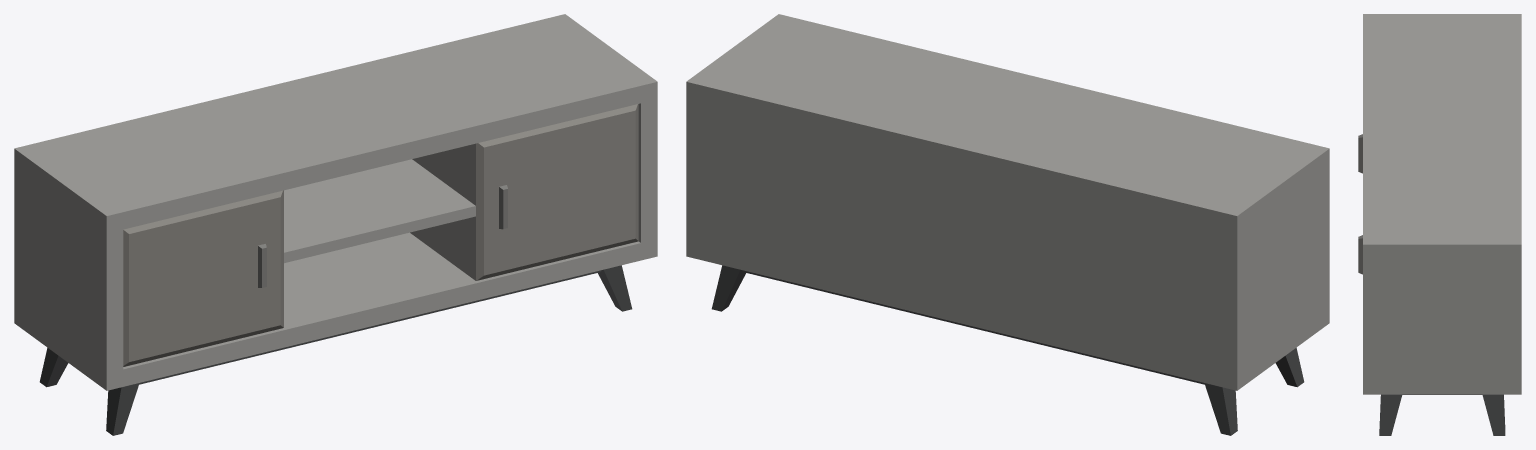
The model's file is SM_Props_Interior_House_Room_TV_Stand_01.fbx.
The picture shows the model from 3 angles, left to right: view 1: azimuth 30°, elevation 25°; view 2: azimuth 150°, elevation 25°; view 3: azimuth 270°, elevation 25°; orthographic projection. The views are drawn at different scales.
Visible parts, largest first — view 1: SM_Props_Interior_House_Room_TV_Stand_01; view 2: SM_Props_Interior_House_Room_TV_Stand_01; view 3: SM_Props_Interior_House_Room_TV_Stand_01.
Boxes of the visible parts, x1,y1,x2,y2 form: SM_Props_Interior_House_Room_TV_Stand_01: (14, 14, 657, 435); SM_Props_Interior_House_Room_TV_Stand_01: (686, 14, 1329, 435); SM_Props_Interior_House_Room_TV_Stand_01: (1358, 14, 1521, 435).
Bounding box in the file's own units: 132 × 52.8 × 39.57.
